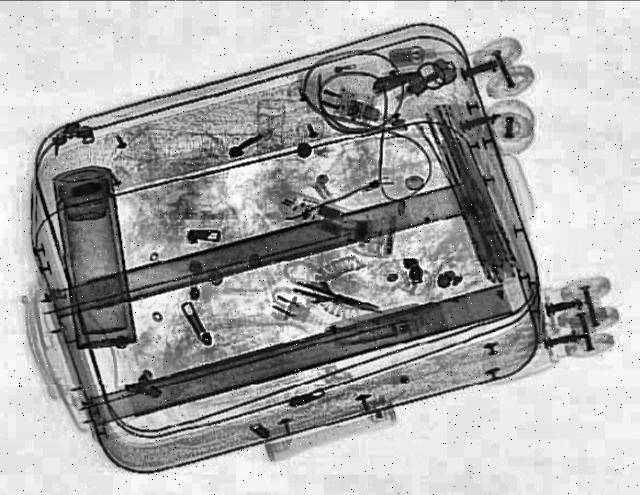Knife: (290, 272, 388, 318)
